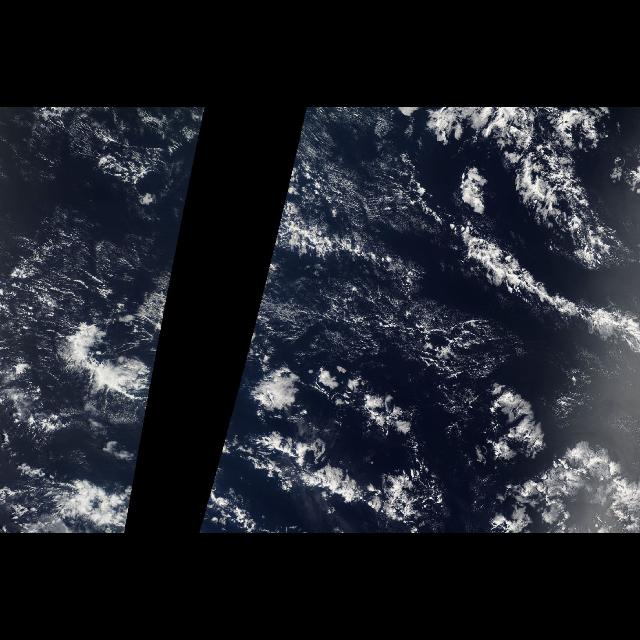Fish: (398, 107, 640, 353)
Flower: (252, 371, 638, 533)
Sugar: (277, 110, 421, 240)
